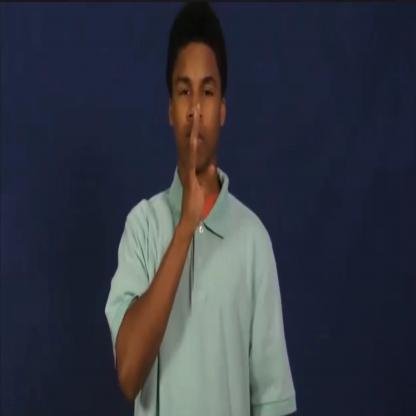Talk: (146, 1, 244, 266)
